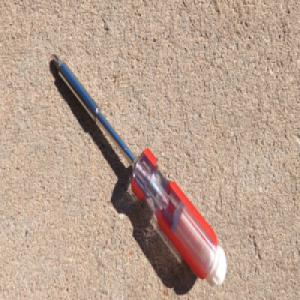Screwdriver: (50, 50, 228, 289)
